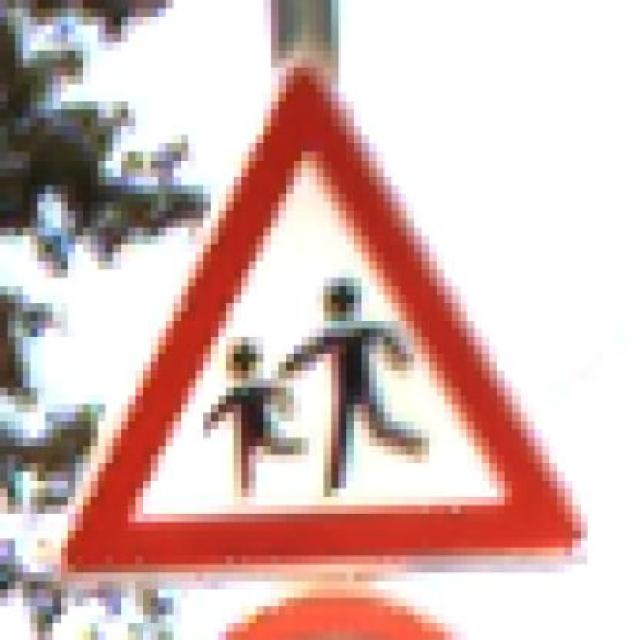Beware of children: (56, 36, 590, 593)
